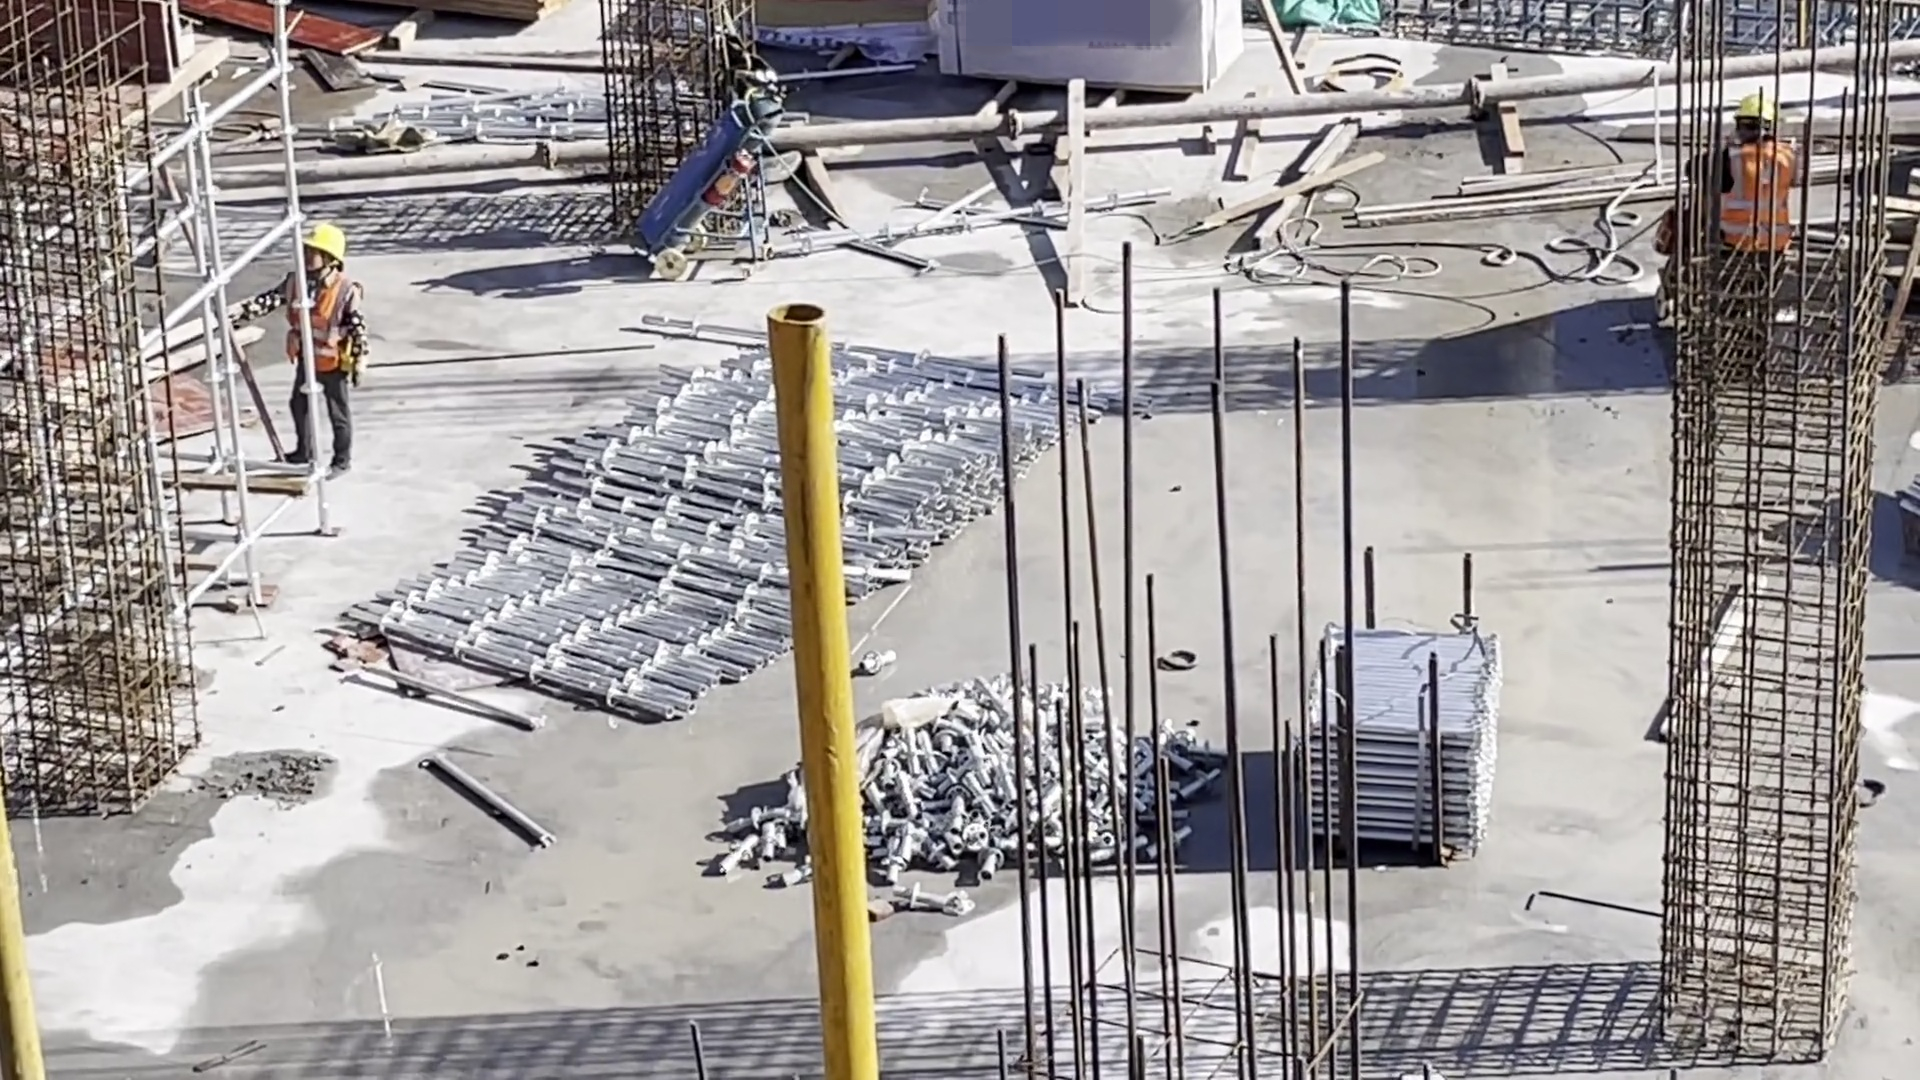helmet: (298, 220, 346, 267), (1731, 101, 1772, 126)
person: (228, 223, 369, 491), (1695, 100, 1797, 301)
scaffold: (351, 313, 1157, 730), (1306, 616, 1496, 853)
vest: (1717, 134, 1796, 253), (288, 271, 363, 379)
